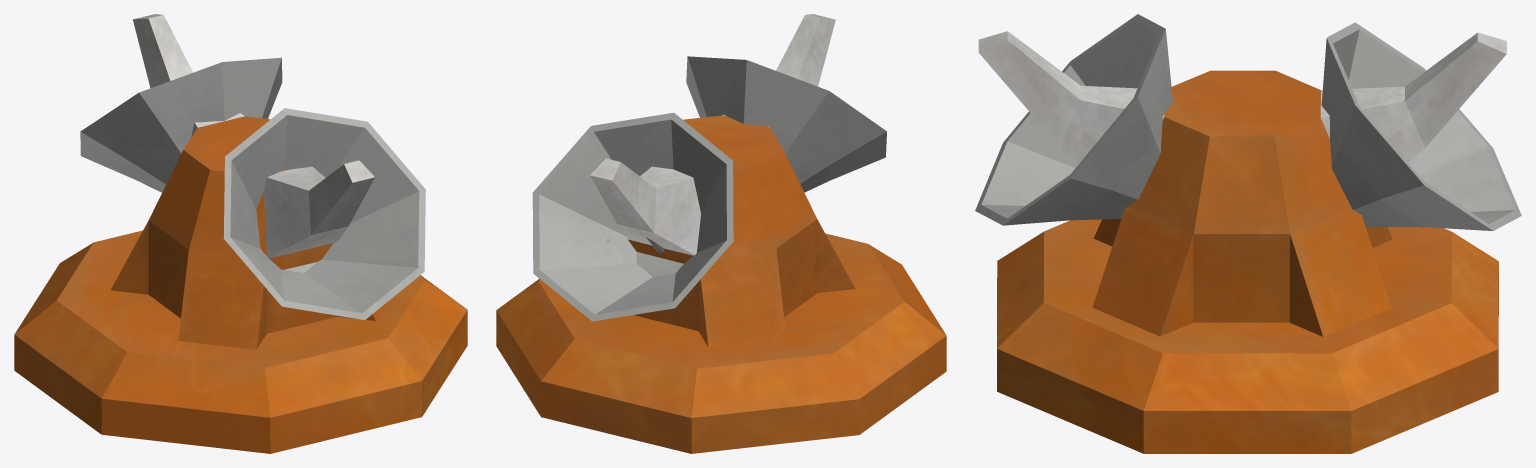
Rendered from TorreRadar2.fbx.
The picture shows the model from 3 angles, left to right: view 1: azimuth 30°, elevation 25°; view 2: azimuth 150°, elevation 25°; view 3: azimuth 270°, elevation 25°; orthographic projection. The views are drawn at different scales.
Parts seen in each view (by area): view 1: Base, Torre; view 2: Base, Torre; view 3: Base, Torre.
Part boxes in pixels (x1,y1,x2,y2): Base: [14, 14, 467, 453]; Torre: [80, 57, 425, 320]; Base: [496, 14, 946, 453]; Torre: [532, 56, 886, 321]; Base: [978, 31, 1506, 453]; Torre: [975, 14, 1521, 230].
Size of the model in its own units: 266 by 190 by 290.
